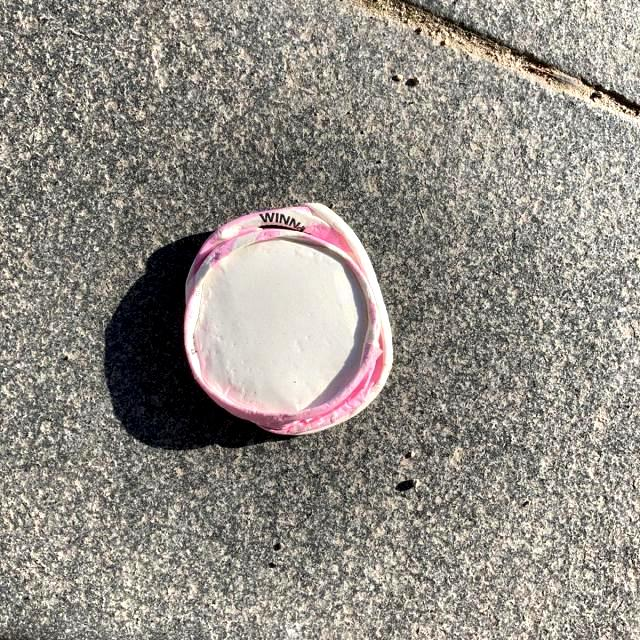Paper: (181, 200, 395, 438)
